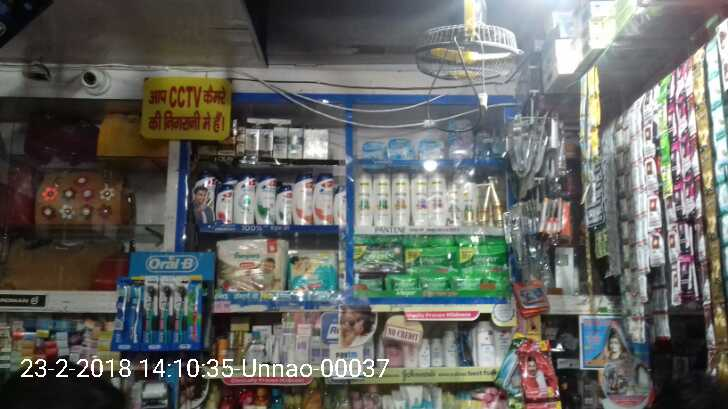gillete: (495, 338, 528, 394), (515, 280, 546, 317), (589, 69, 601, 160), (579, 73, 588, 194)
venus: (448, 118, 474, 159), (474, 128, 498, 159), (388, 137, 417, 159), (418, 140, 446, 159)
